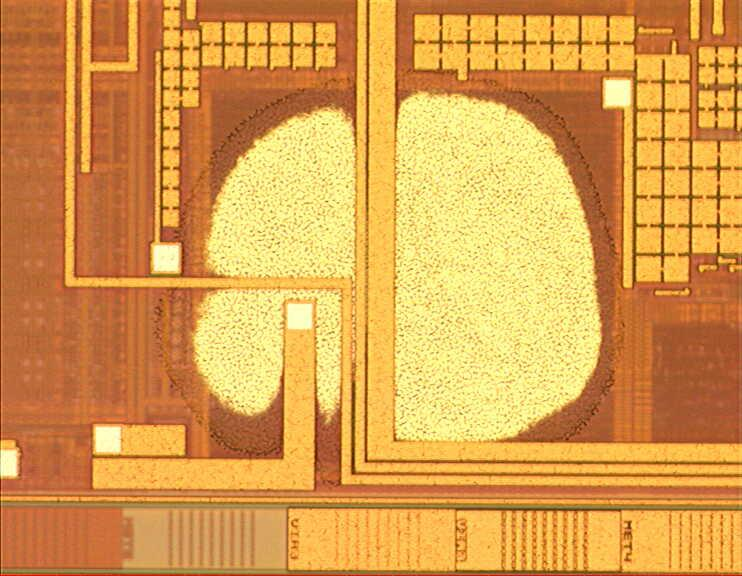BLOCK ETCH: (147, 65, 621, 491)
